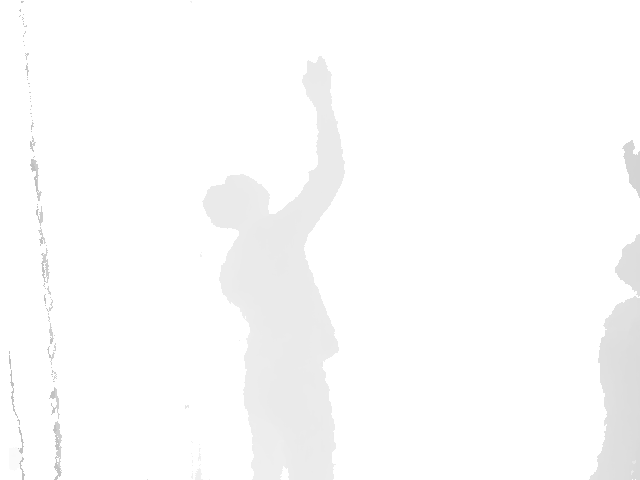hand: (302, 56, 333, 108), (622, 139, 640, 194)
head: (201, 174, 270, 231), (613, 232, 640, 296)
person: (201, 57, 346, 480), (586, 140, 640, 480)
